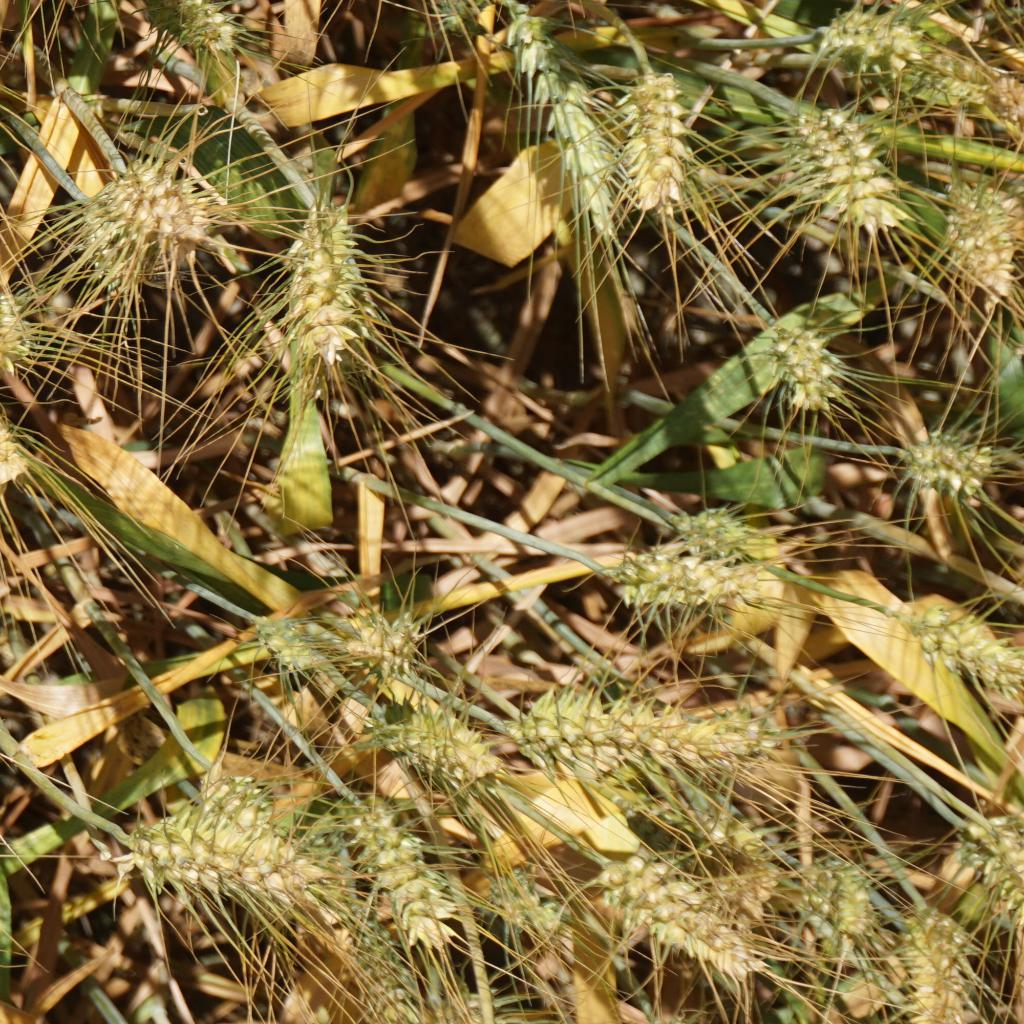0-0: (504, 0, 621, 243), (521, 685, 775, 764), (269, 171, 367, 369), (602, 851, 752, 976), (790, 96, 907, 246), (898, 576, 1024, 713), (616, 64, 709, 230), (138, 816, 304, 907), (314, 866, 414, 1013), (347, 801, 442, 936), (606, 529, 736, 625), (376, 685, 489, 787), (948, 176, 1020, 287), (121, 157, 211, 243), (898, 431, 998, 508), (762, 320, 851, 404), (822, 0, 924, 72), (69, 181, 133, 286), (898, 916, 960, 1024), (913, 897, 983, 982), (667, 796, 764, 857), (329, 613, 422, 674), (207, 765, 294, 829), (937, 50, 1019, 117), (670, 503, 752, 565), (145, 0, 235, 54), (959, 820, 1024, 894), (245, 612, 314, 680), (488, 861, 553, 930), (811, 859, 869, 931), (0, 366, 28, 486), (0, 286, 35, 368), (720, 865, 781, 908), (437, 0, 488, 39)
